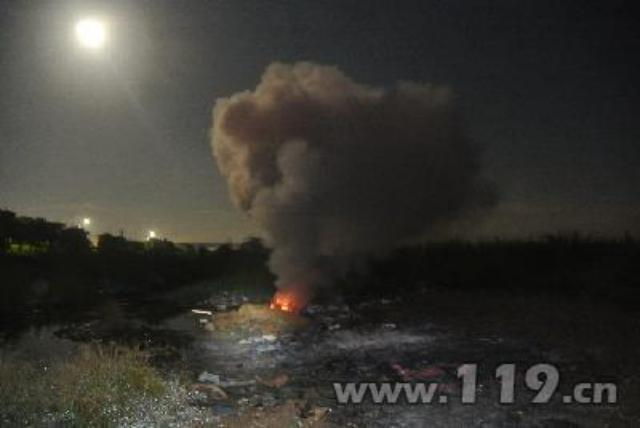fire: (270, 288, 294, 310)
